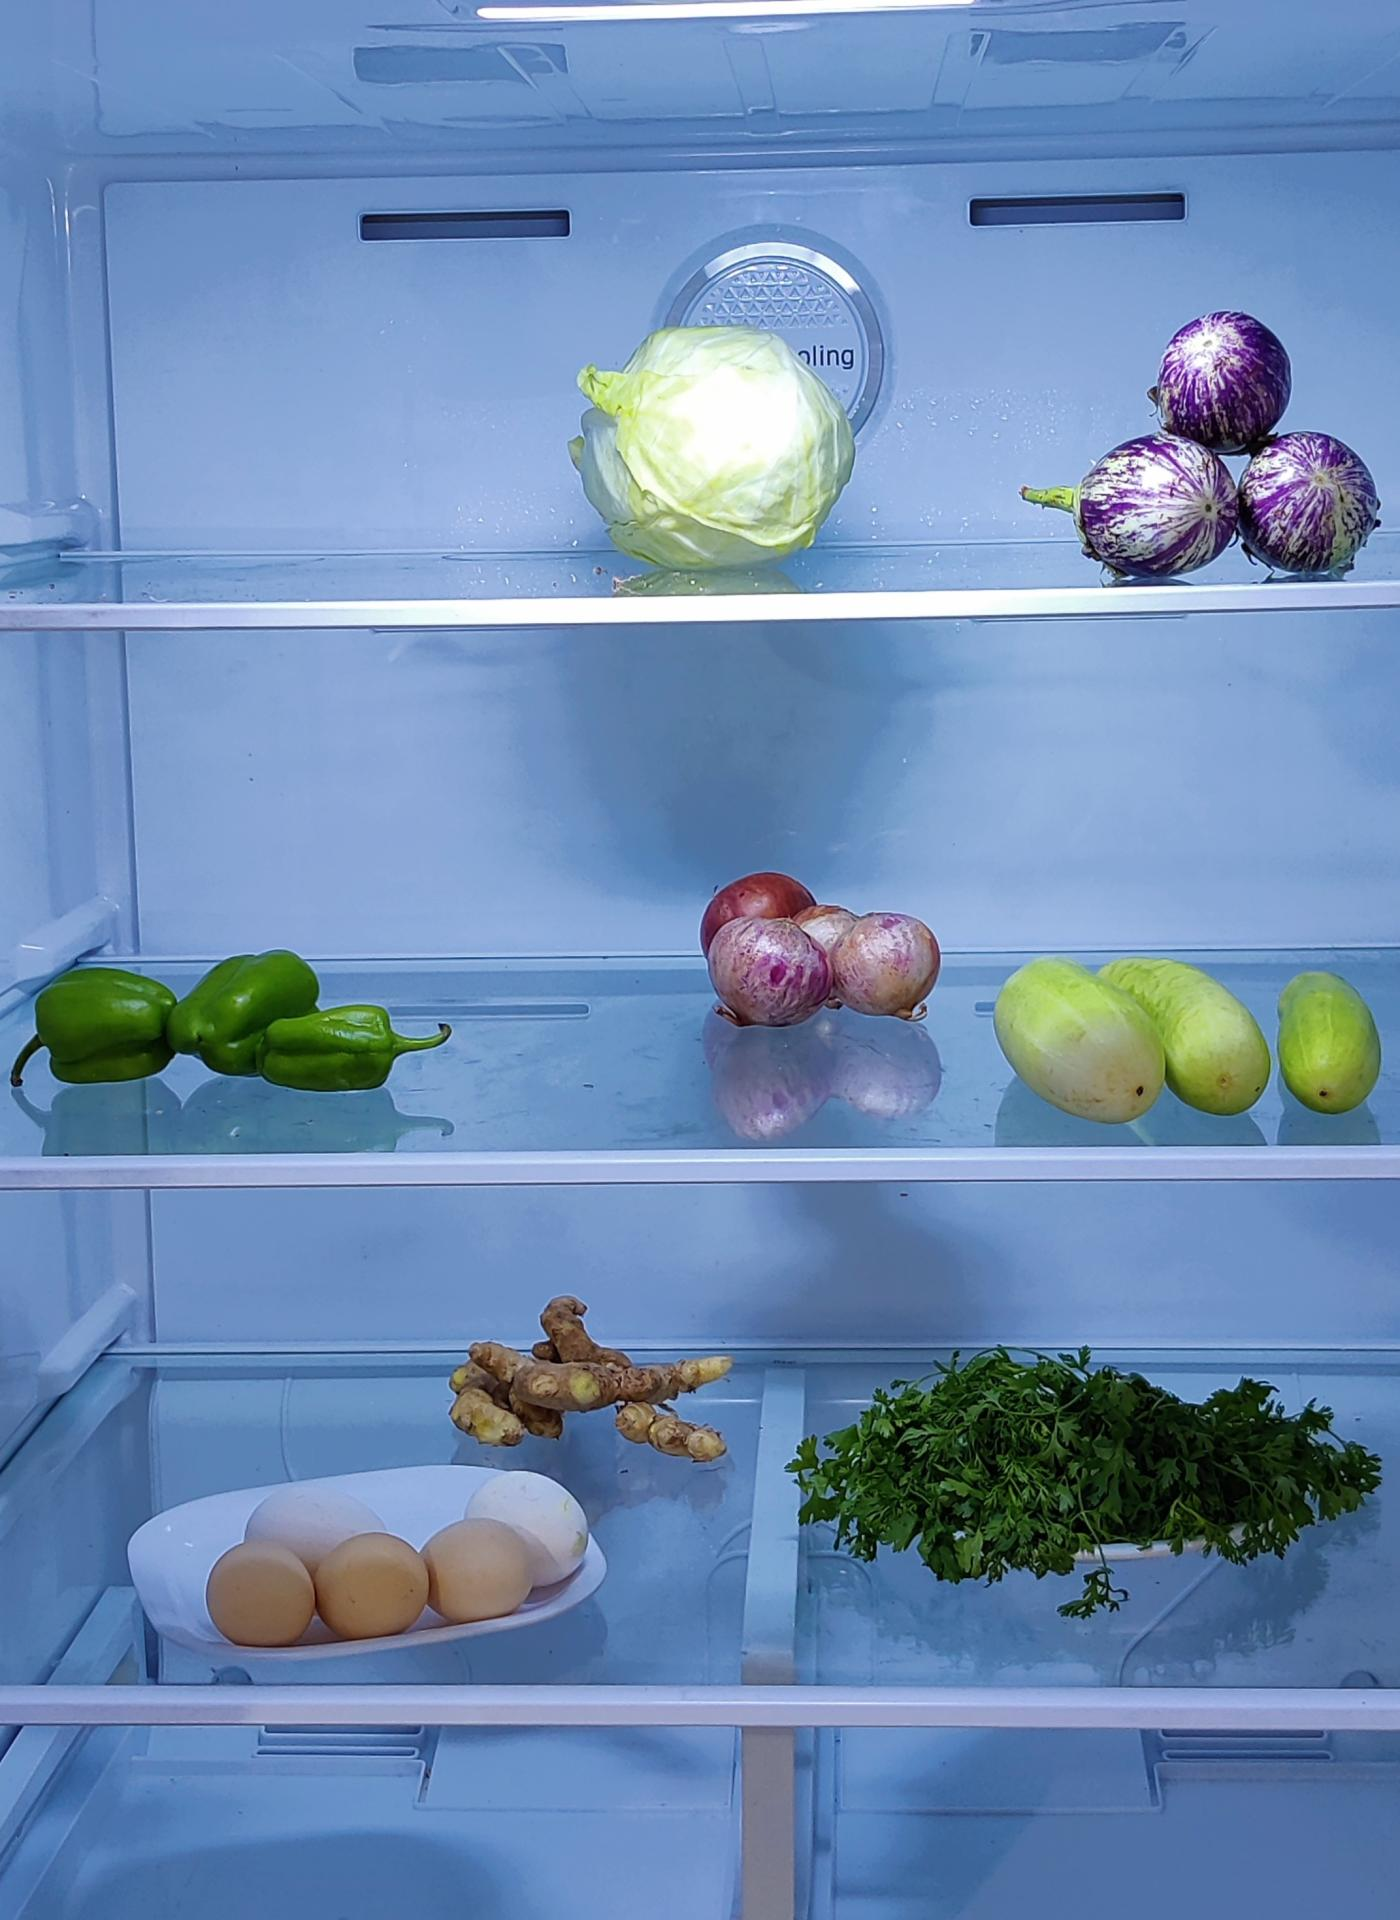brinjal: (1087, 298, 1358, 572)
cabbage: (580, 323, 862, 566)
capsicum: (9, 953, 440, 1106)
coriander: (798, 1355, 1373, 1582)
cucumber: (1003, 947, 1397, 1120)
egg: (204, 1510, 581, 1658)
ginger: (449, 1298, 732, 1446)
onion: (699, 862, 945, 1027)
